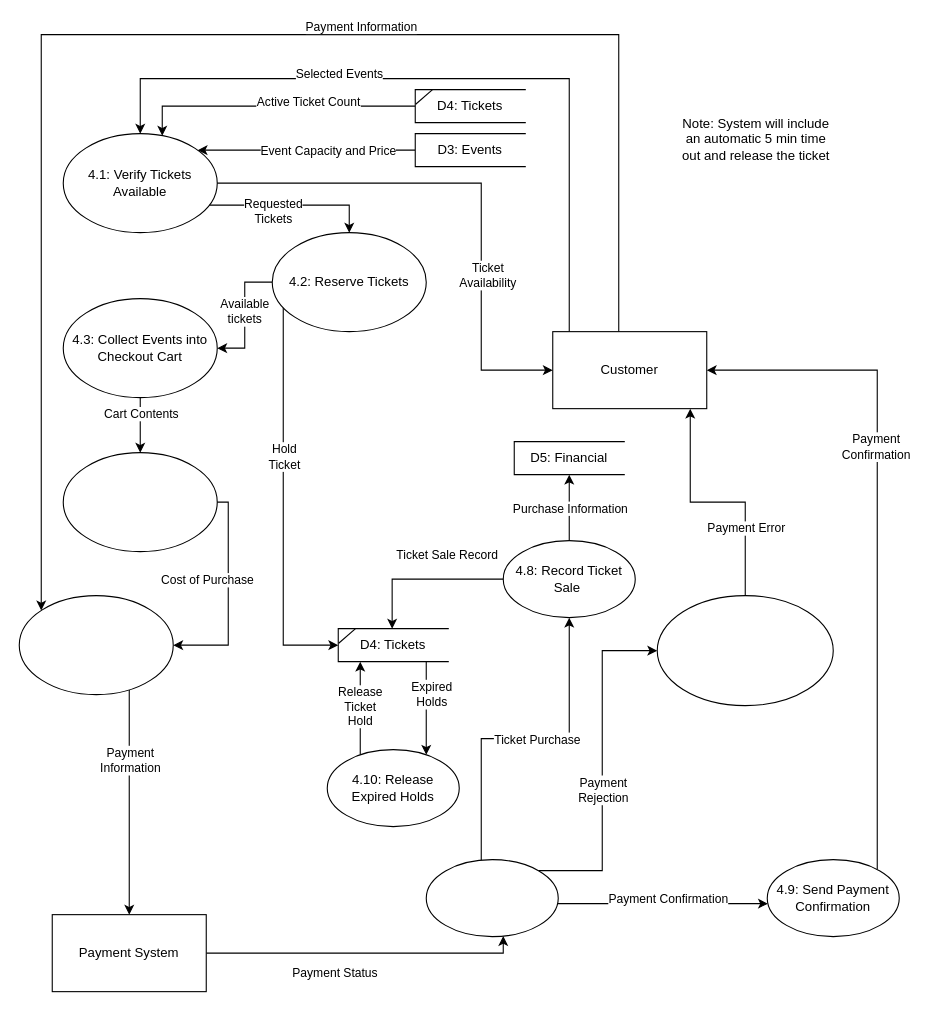
Image size: 928x1011. Some labels were removed from this diagram. The box of each missing label's shape, as (x1, y1, x2, y2) in pixels:
4.4: Calculate Cost of Tickets: (62, 452, 217, 552)
4.5: Collect Customer and Payment Information: (18, 595, 173, 695)
4.6: Verify Payment was Processed: (425, 859, 558, 937)
4.7: Request Customer Re-enter Payment Information: (656, 595, 833, 706)
